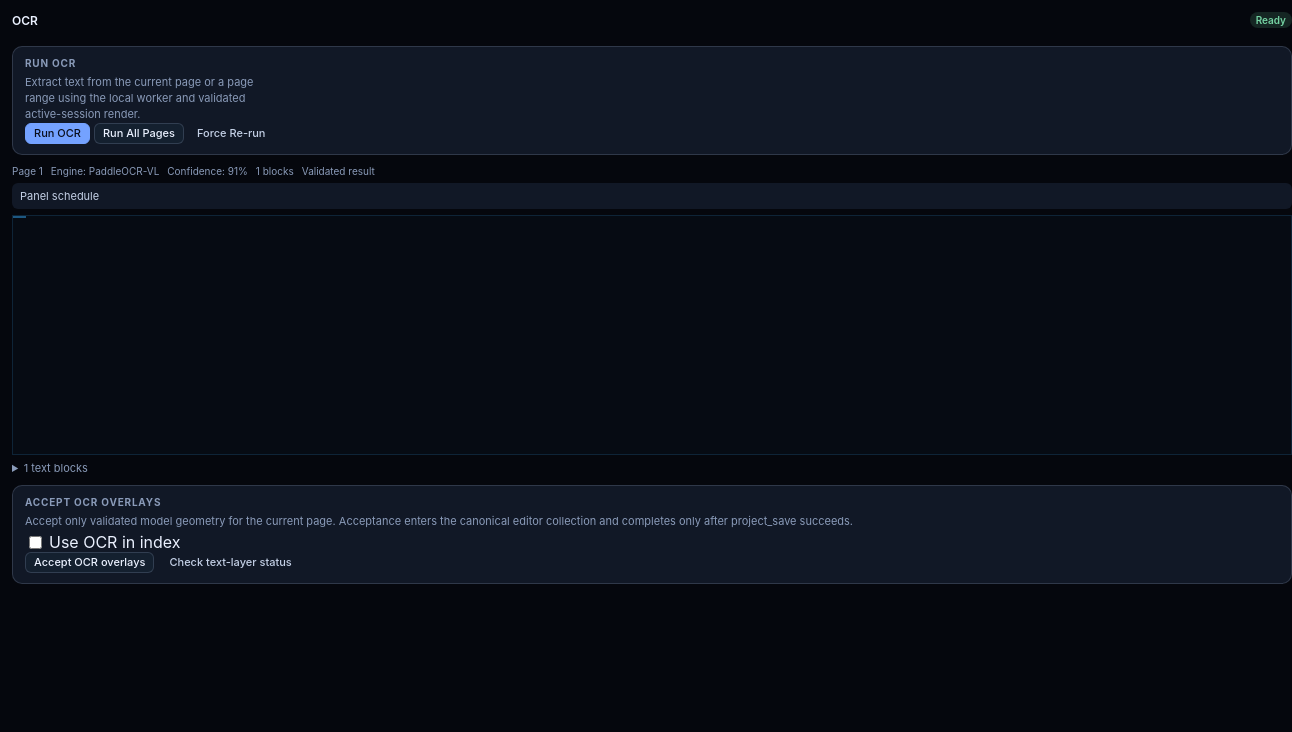
it: Pass 2B — OcrPanel polish › does not show persisted acceptance when the canonical App save rejects the overlays
Click the button with test id "ocr-create-overlays" at (90, 563), box [25,552,154,573]
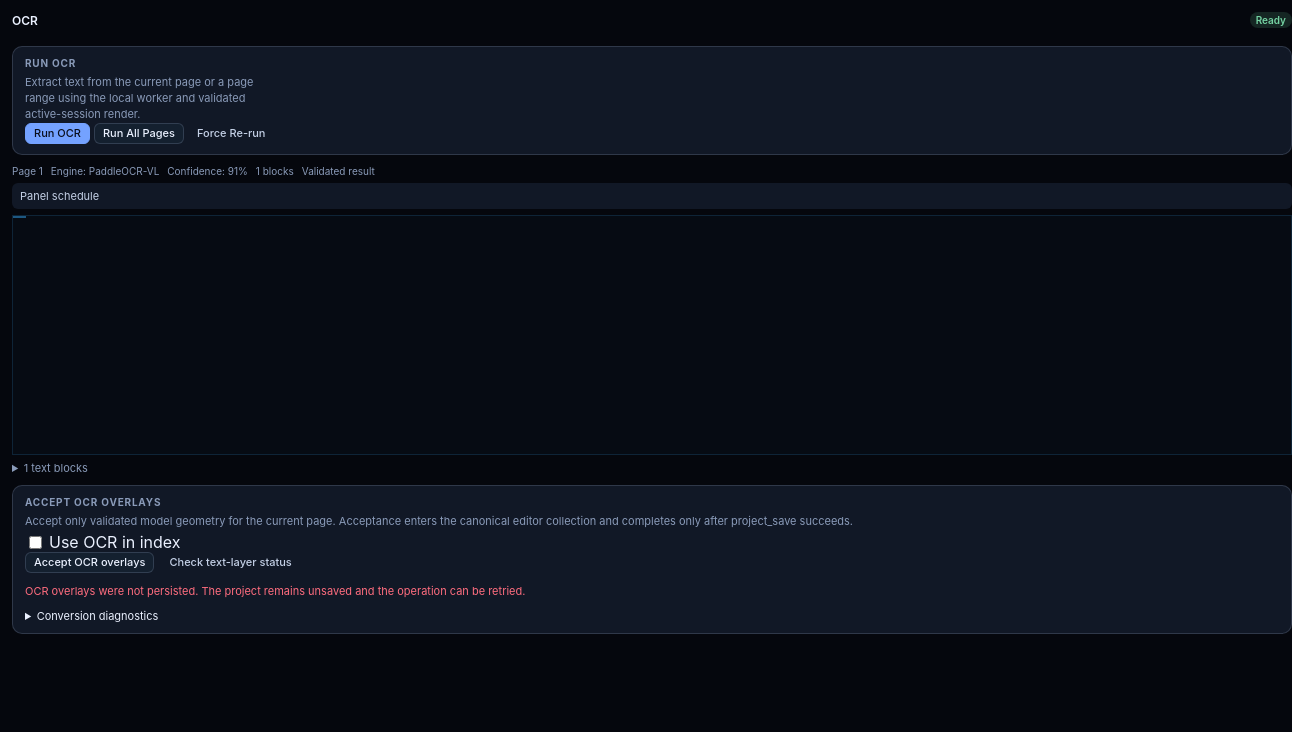
Check: the text "OCR overlays were not persisted" is shown, box [25,584,525,598]
